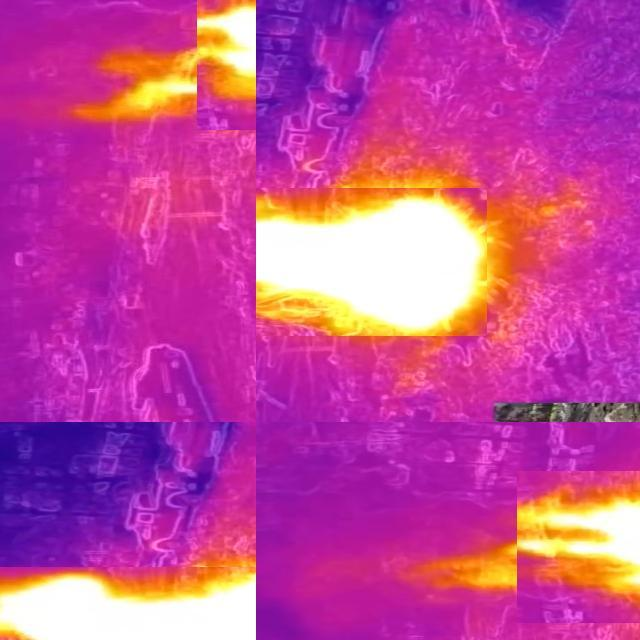fire: (257, 187, 488, 335), (1, 567, 257, 640), (556, 470, 640, 620), (198, 1, 257, 130)
